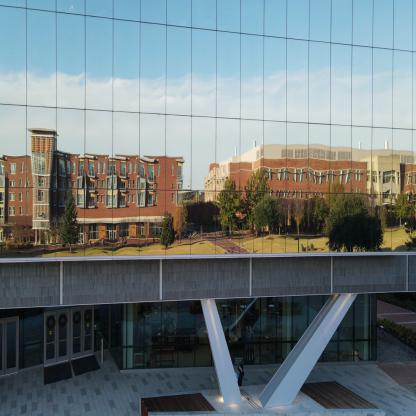Fitts- Woolard: (1, 2, 415, 400)
